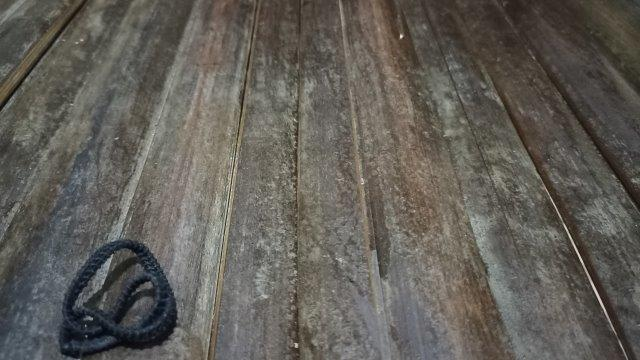karet: (60, 239, 177, 356)
